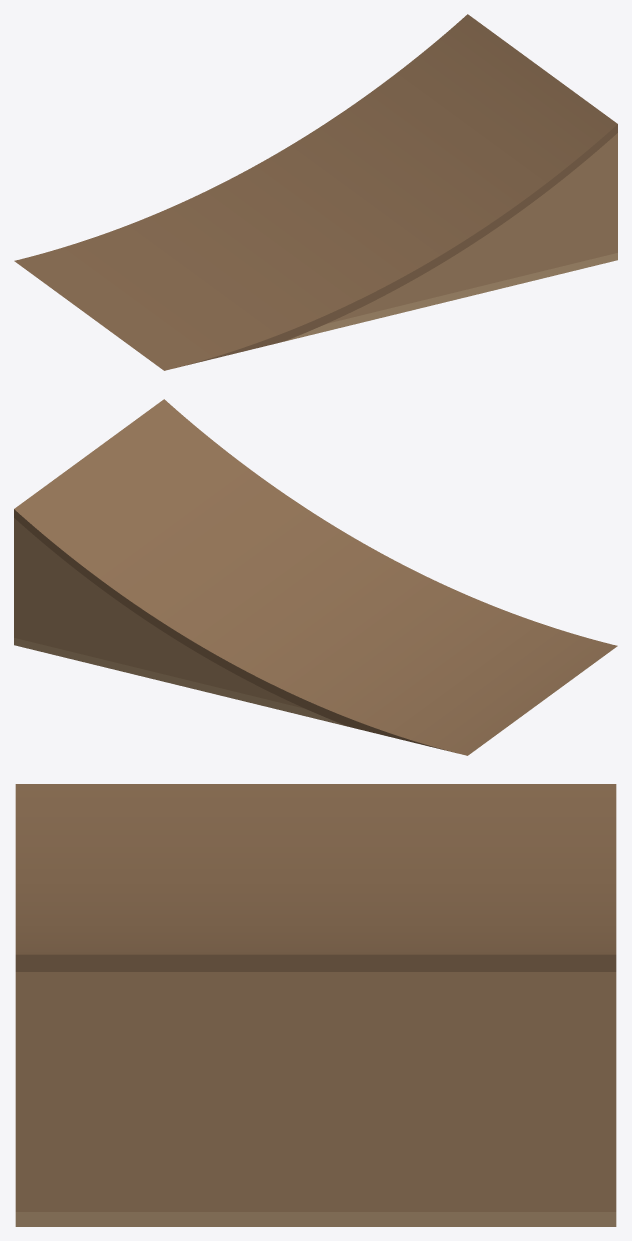
The model's file is DR_Prop_WhipRamp.fbx.
3 renders of one model, top to bottom at view 1: azimuth 30°, elevation 25°; view 2: azimuth 150°, elevation 25°; view 3: azimuth 270°, elevation 25°, orthographic. The views are drawn at different scales.
Parts seen in each view (by area): view 1: DR_Prop_WhipRamp; view 2: DR_Prop_WhipRamp; view 3: DR_Prop_WhipRamp.
Boxes of the visible parts, x1,y1,x2,y2 form: DR_Prop_WhipRamp: (14, 14, 617, 370); DR_Prop_WhipRamp: (14, 399, 617, 755); DR_Prop_WhipRamp: (15, 784, 616, 1226).
Bounding box in the file's own units: 1.92 × 0.55 × 1.1.
